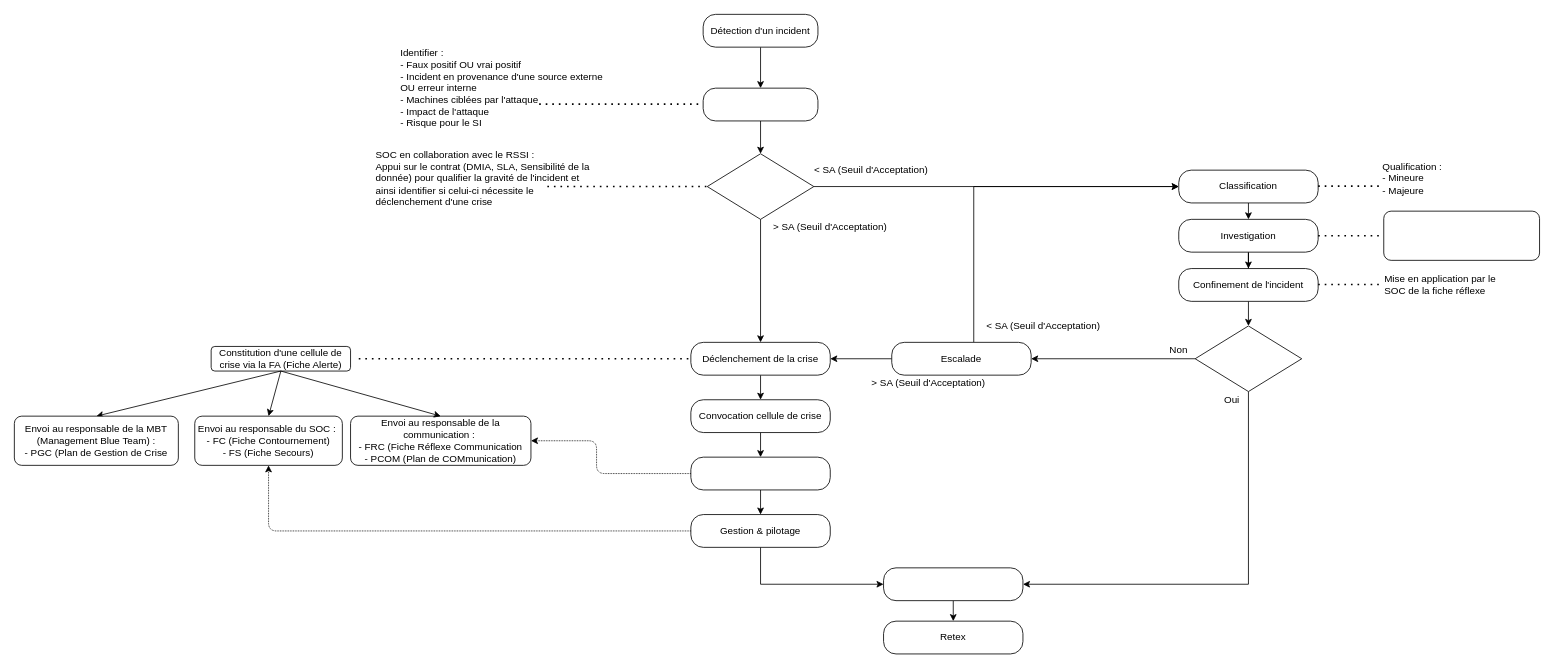
The diagram is 1554 pixels wide and 668 high, and some of its shapes have lost their labels. Each missing label, with the box of its shape:
Clôture: (883, 567, 1023, 601)
Déclenchement PCOM: (690, 456, 830, 490)
Envoi au responsable du SOC : - FR (Fiche Réflexe): (1383, 210, 1540, 260)
Pré-analyse: (702, 87, 818, 121)
Qualification: (706, 153, 814, 219)
Résolution: (1194, 325, 1302, 392)
